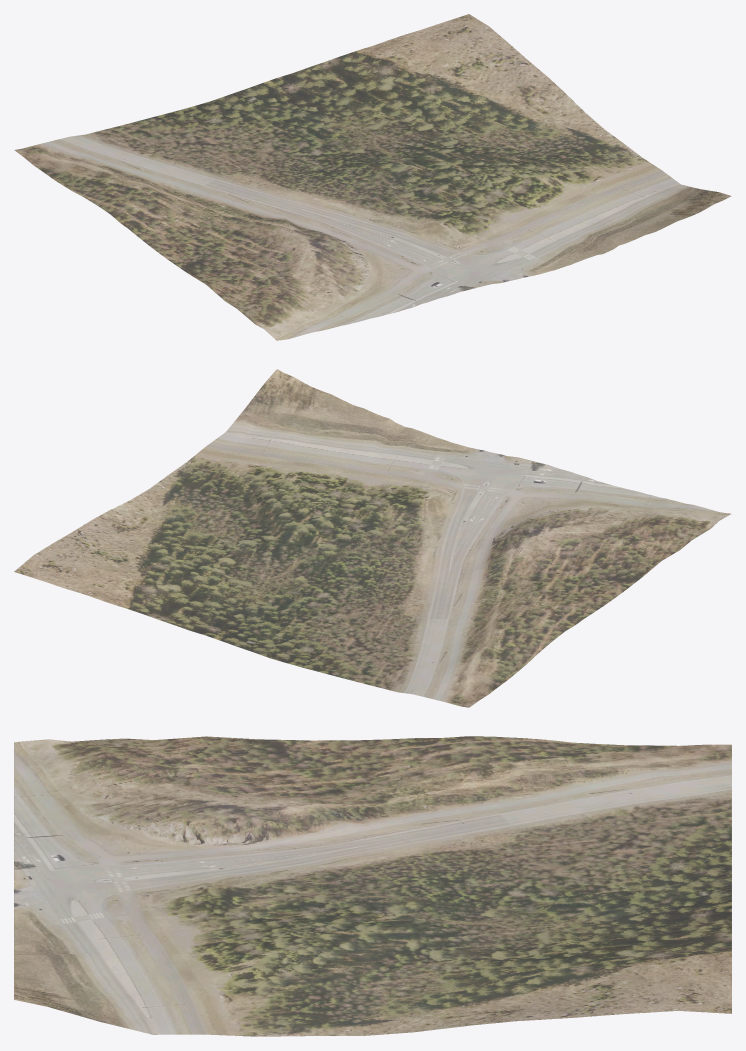
The model's file is CM_Terrain_24493326_6814674.fbx.
3 views of the same model, one above another, from view 1: azimuth 30°, elevation 25°; view 2: azimuth 150°, elevation 25°; view 3: azimuth 270°, elevation 25° (orthographic). The views are drawn at different scales.
Visible parts, largest first — view 1: CM_Terrain_24493326_6814674_LOD0; view 2: CM_Terrain_24493326_6814674_LOD0; view 3: CM_Terrain_24493326_6814674_LOD0.
Boxes of the visible parts, <box> form: CM_Terrain_24493326_6814674_LOD0: <box>14,14,731,340</box>; CM_Terrain_24493326_6814674_LOD0: <box>14,369,731,707</box>; CM_Terrain_24493326_6814674_LOD0: <box>14,736,731,1036</box>.
Size of what is drawn, in the model's own units: 205 by 15.99 by 205.
